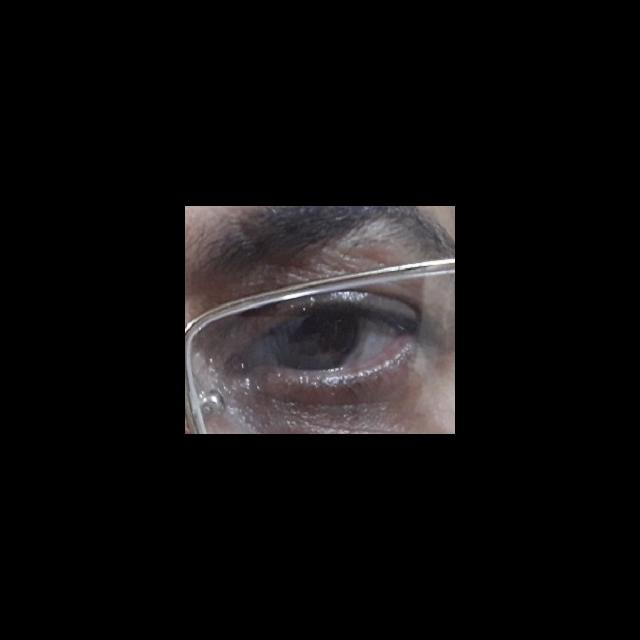eye: (252, 306, 409, 373)
iris: (272, 307, 359, 370)
